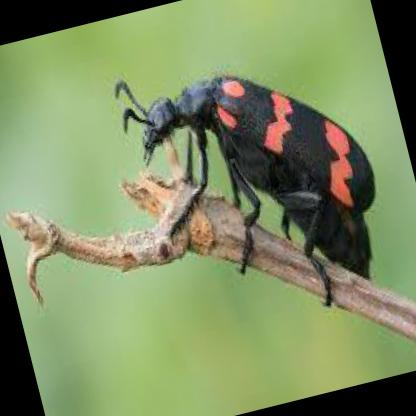blister beetle: (116, 79, 377, 308)
